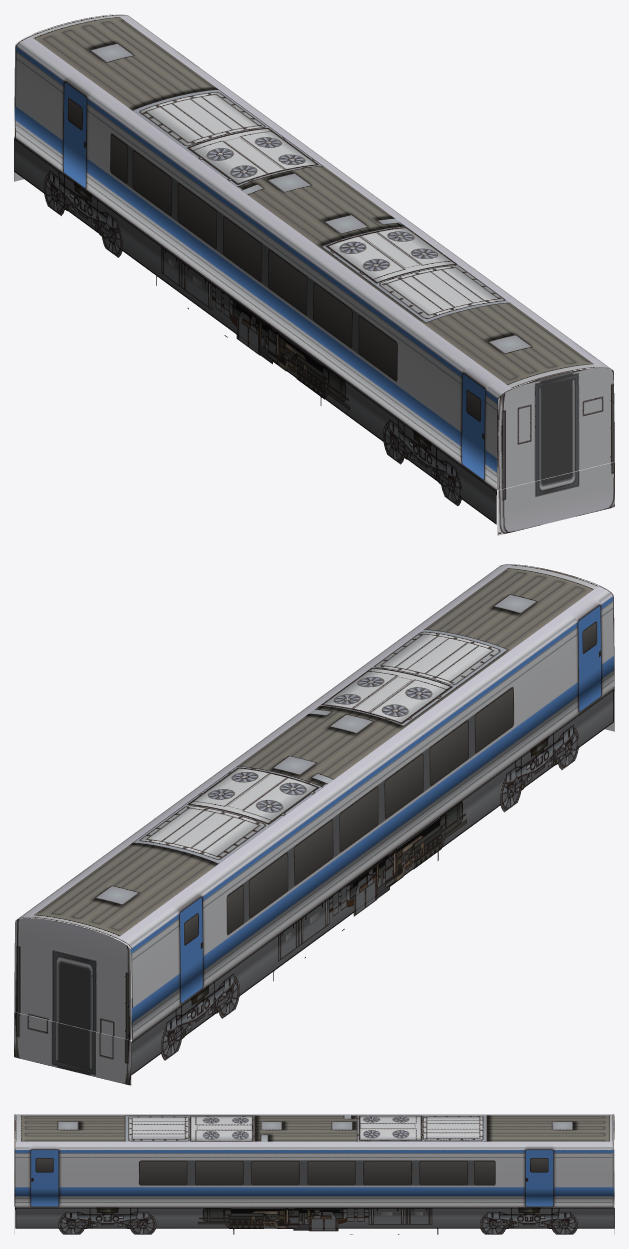
Rendered from car2.glb.
The picture shows the model from 3 angles, top to bottom: view 1: azimuth 30°, elevation 25°; view 2: azimuth 150°, elevation 25°; view 3: azimuth 270°, elevation 25°; orthographic projection. The views are drawn at different scales.
Visible parts, largest first — view 1: jr-shikoku-2000-car2; view 2: jr-shikoku-2000-car2; view 3: jr-shikoku-2000-car2.
Boxes of the visible parts, x1,y1,x2,y2 form: jr-shikoku-2000-car2: (14,14,614,535); jr-shikoku-2000-car2: (14,564,614,1085); jr-shikoku-2000-car2: (14,1114,614,1234).
Size of the model in its own units: 2.84 by 3.38 by 20.33.
Materials: 8 (7 with a texture image).
